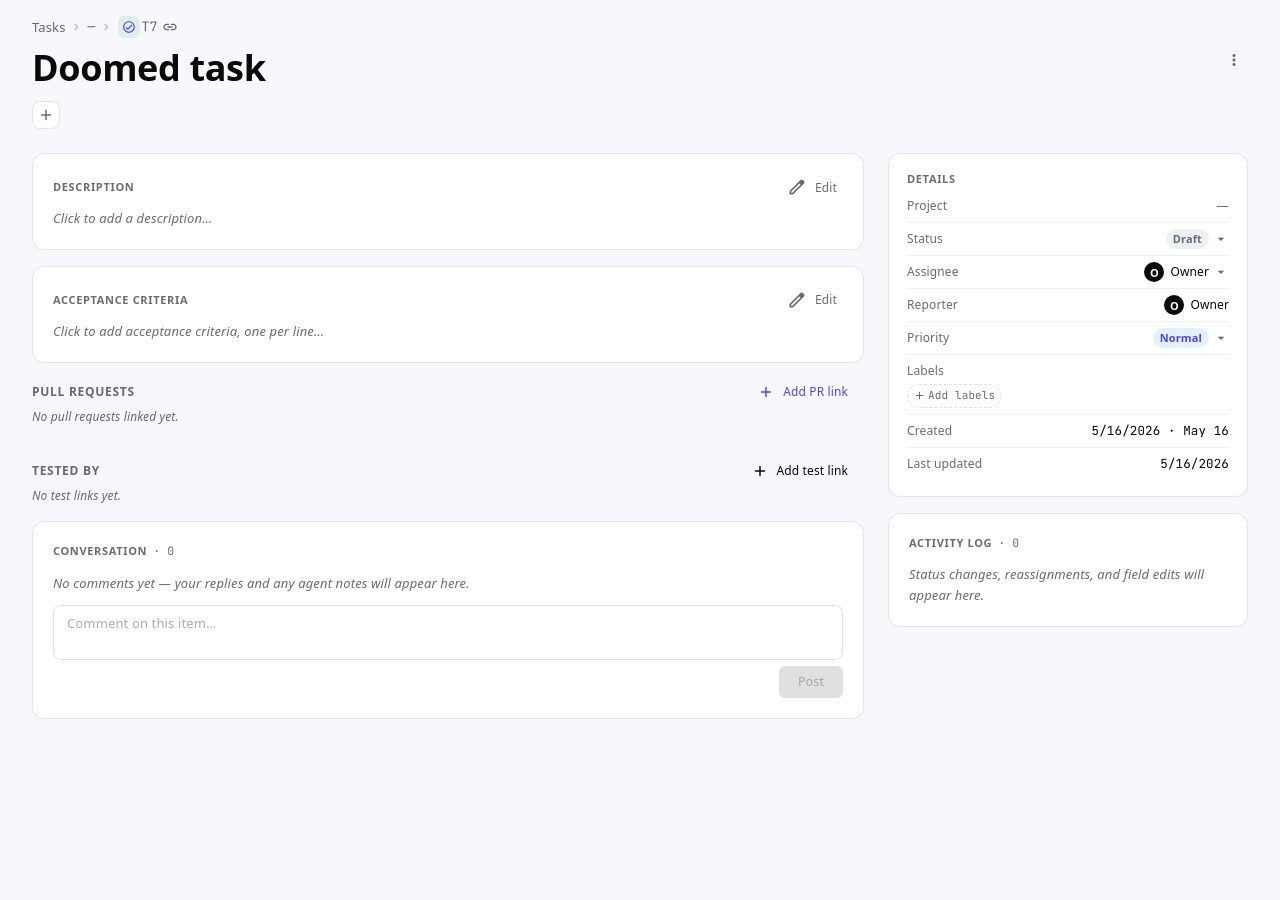
Test case: SubTaskDetail page › opens the delete-confirm modal via the kebab menu and cancels
The width and height of the screenshot is (1280, 900).
Expected: the heading "Description" is shown, [53, 178, 134, 196]
What coordinates should you click on to do the following:
click the button named "Sub-task actions"
I would click on:
 (1234, 60)
Its box is [1220, 46, 1248, 74].
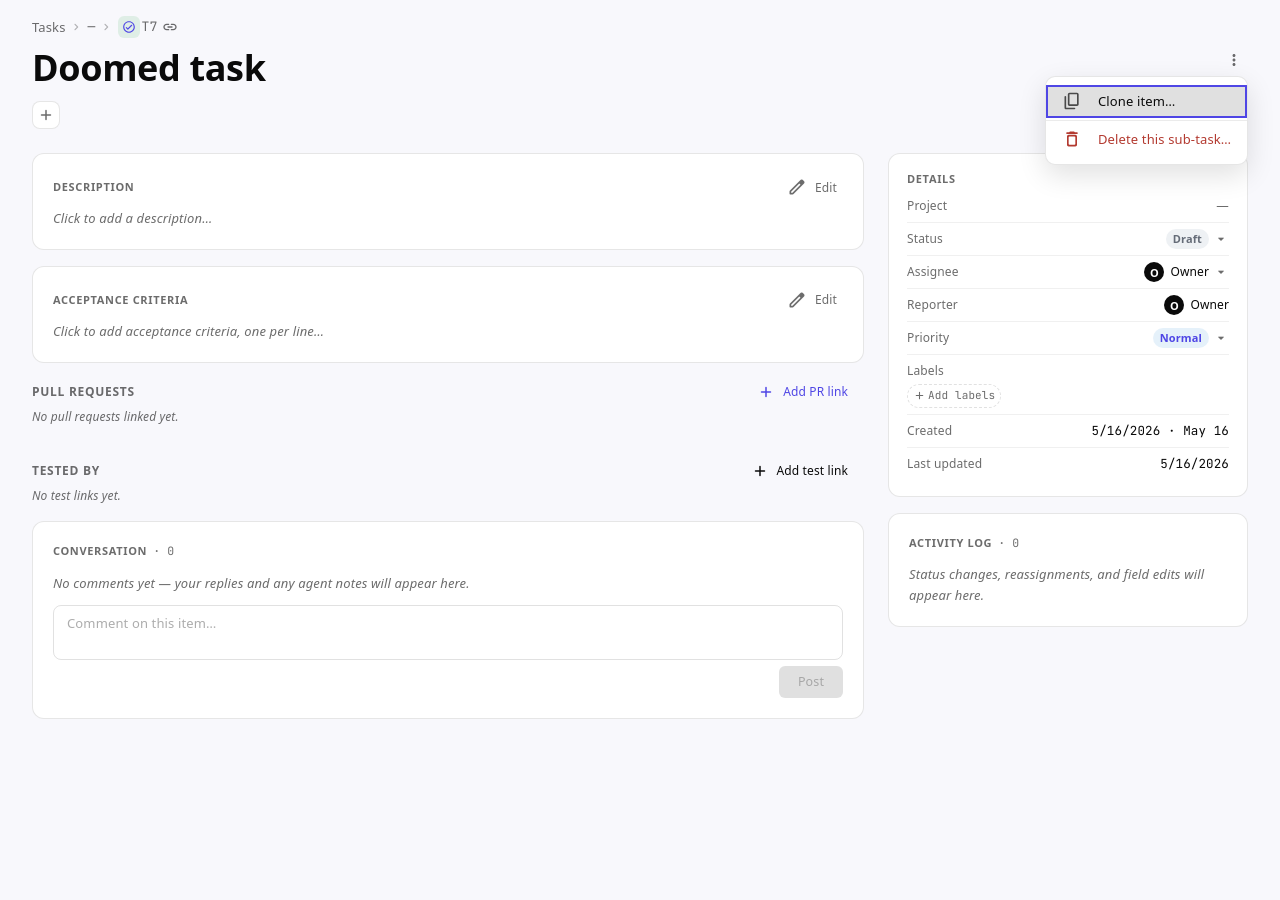
What coordinates should you click on to do the following:
click the menu item "Delete this sub-task…"
I would click on:
 (1147, 139)
Its box is [1062, 129, 1231, 149].
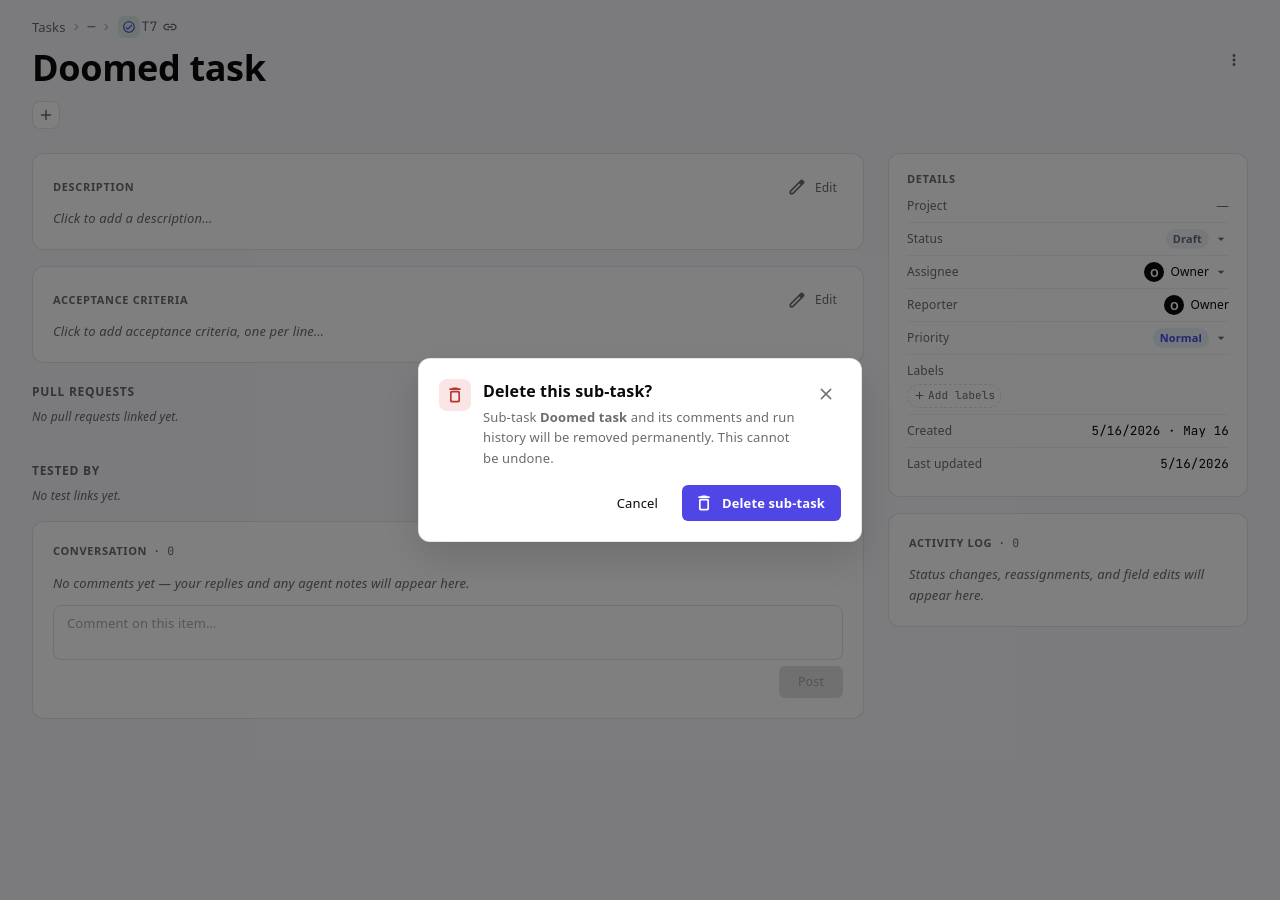
Expected: the text "Delete this sub-task?" is shown, [483, 380, 652, 402]
# Cancel button — exercises onClose.
What coordinates should you click on to do the following:
click the button "Cancel"
I would click on:
 (637, 503)
Its box is [601, 485, 674, 521].
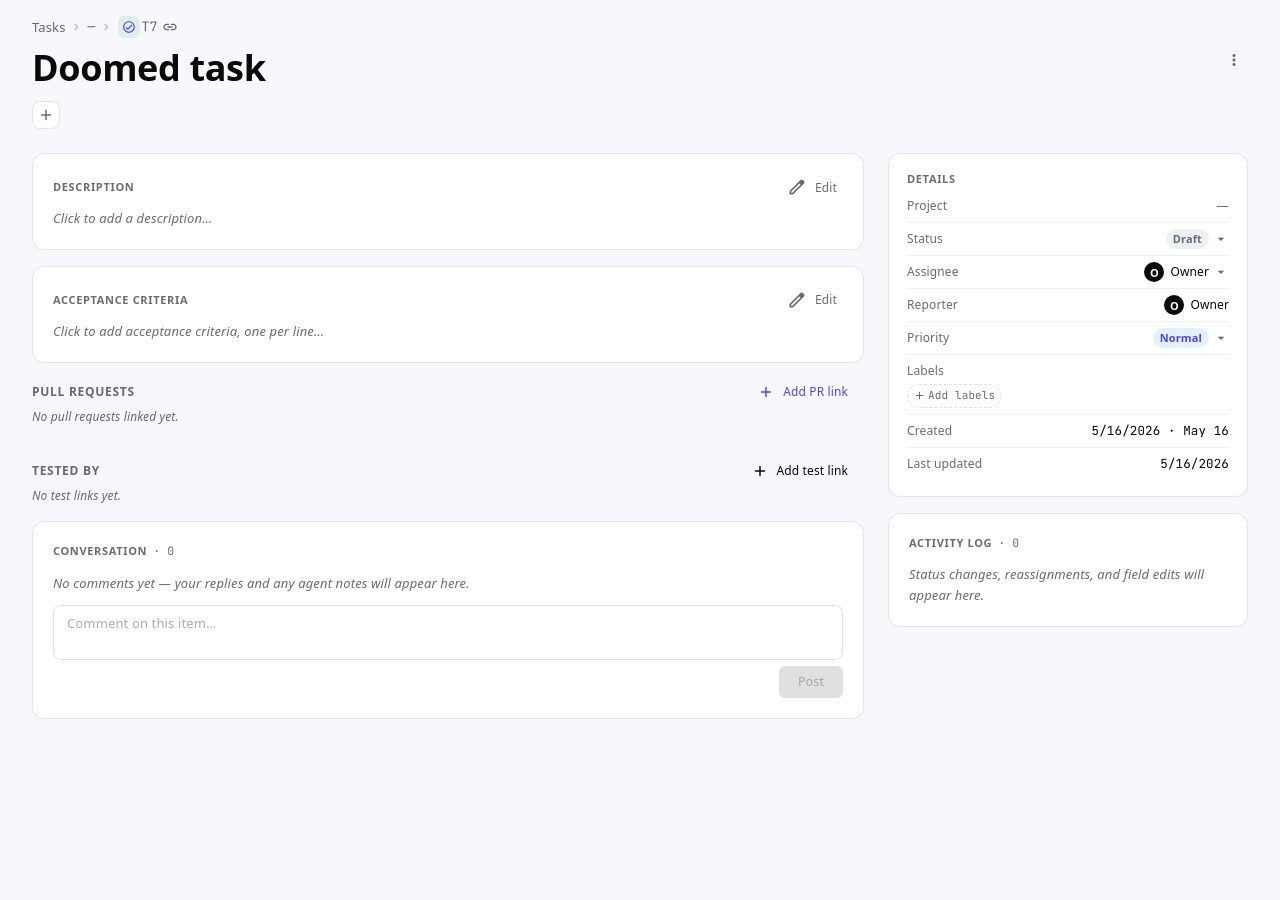
Expected: the text "Delete this sub-task?" is gone
